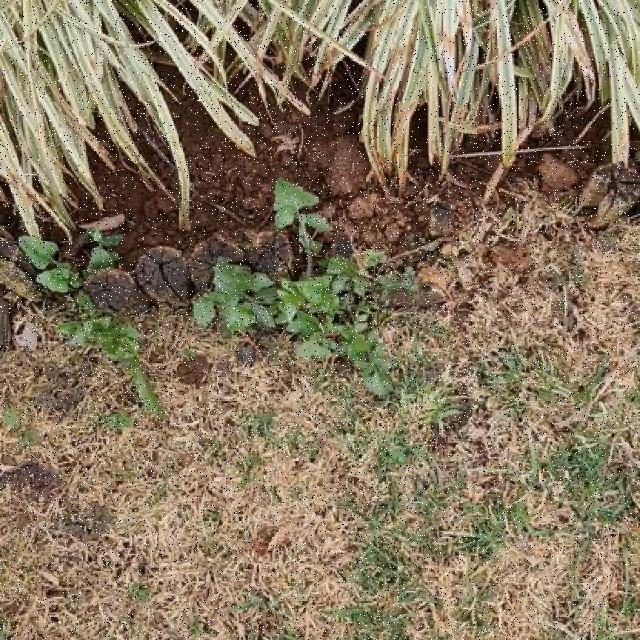weed: (191, 257, 402, 399), (57, 294, 163, 418), (274, 178, 329, 270), (18, 237, 78, 295)
